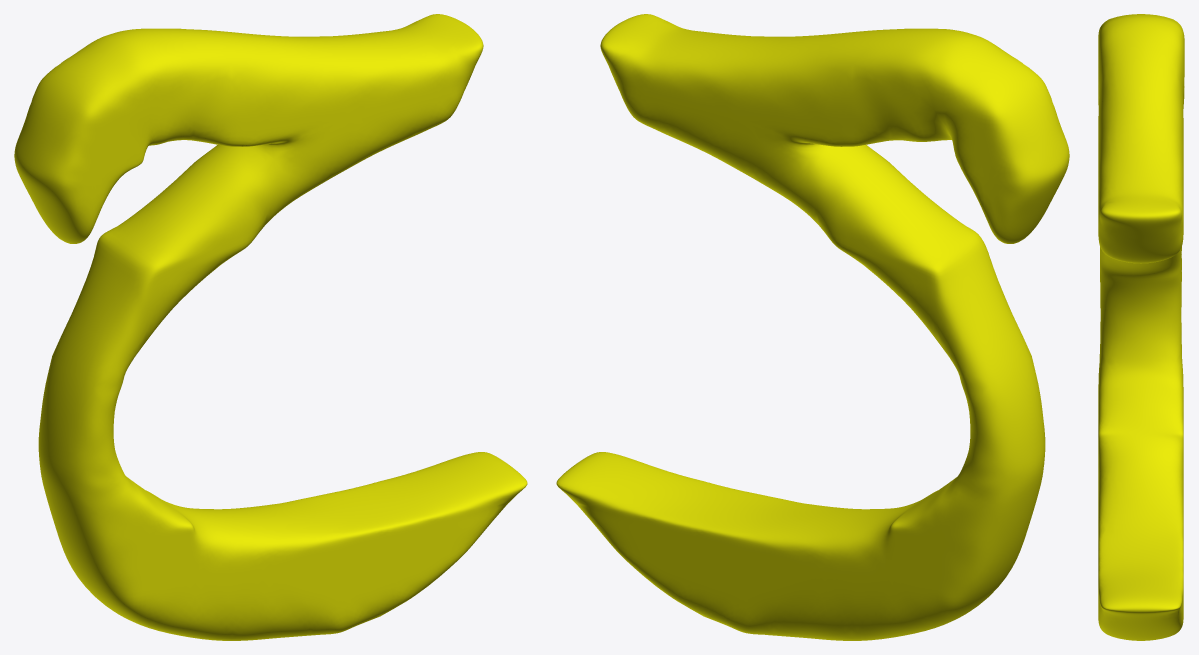
The picture shows the model from 3 angles, left to right: view 1: azimuth 30°, elevation 25°; view 2: azimuth 150°, elevation 25°; view 3: azimuth 270°, elevation 25°; orthographic projection. The views are drawn at different scales.
Parts seen in each view (by area): view 1: char_1; view 2: char_1; view 3: char_1.
Part boxes in pixels (<box>): char_1: <box>14,14,527,640</box>; char_1: <box>556,14,1069,640</box>; char_1: <box>1098,14,1184,640</box>.
Size of the model in its own units: 5.5 by 6.86 by 1.01.
